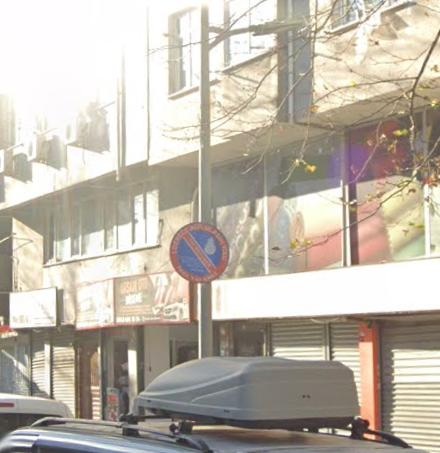park: (171, 223, 229, 280)
